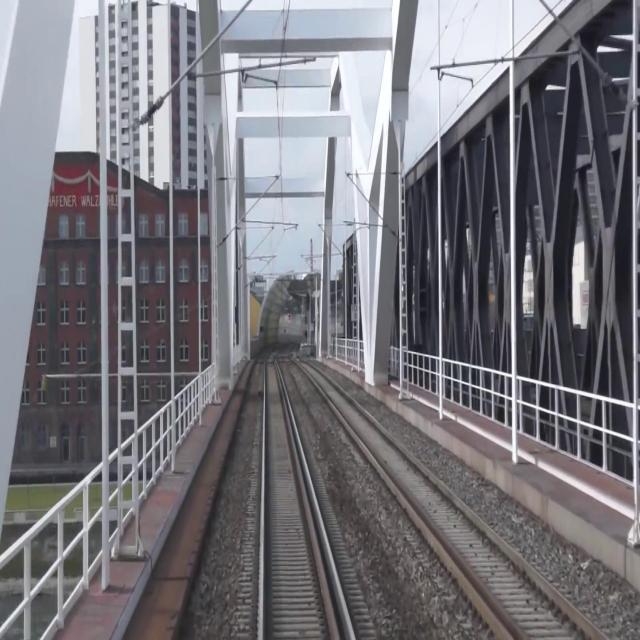rail-track: (296, 356, 604, 639), (265, 349, 350, 639)
